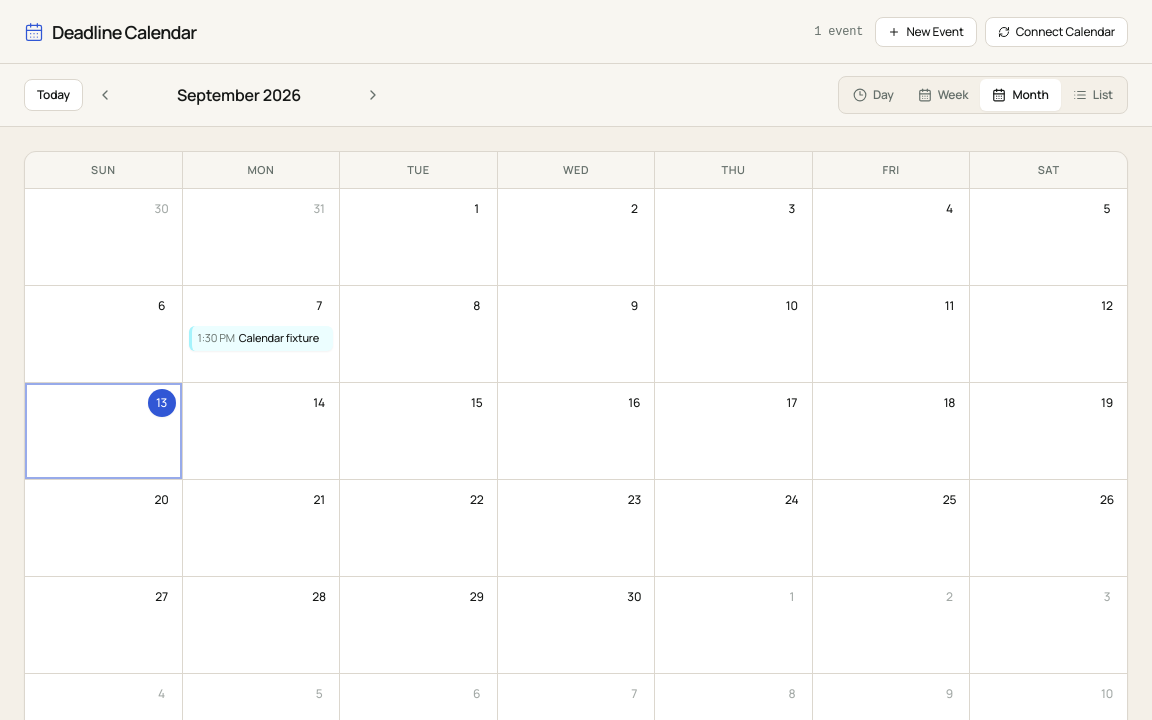
Test case: scheduled calendar event details › keeps the event visible and explains when connected-calendar deletion fails
The width and height of the screenshot is (1152, 720).
Click the button "Calendar fixture" at (261, 338), box [189,326,333,350]
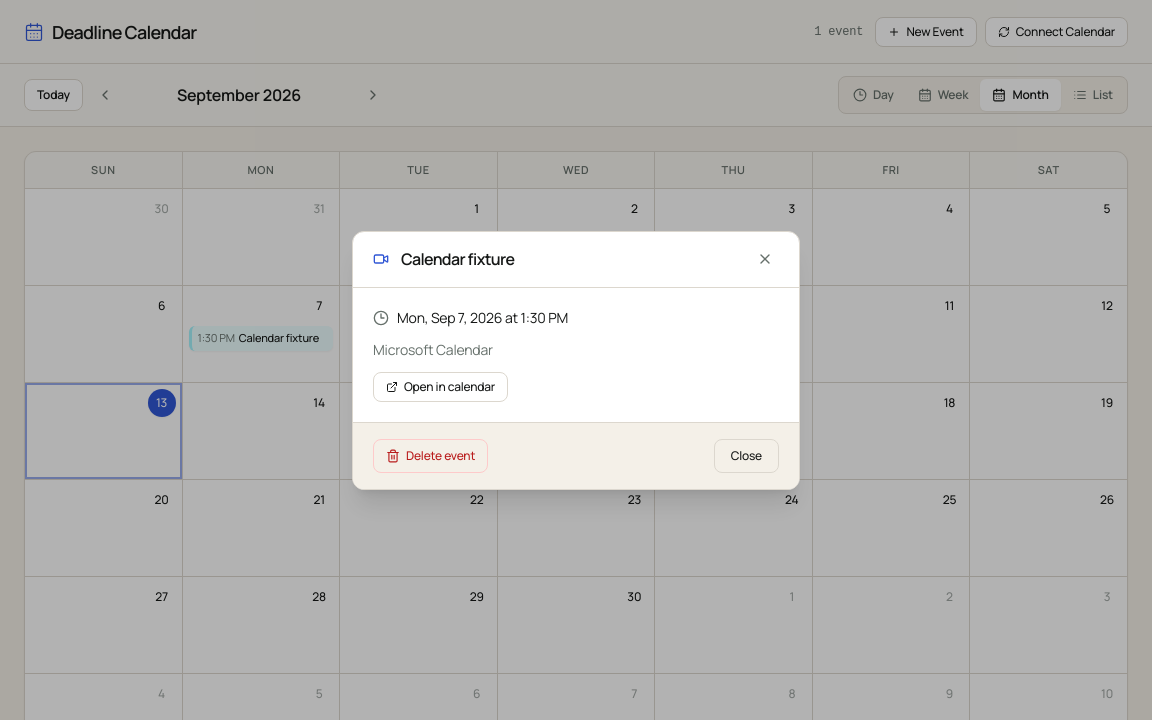
Click the button "Delete event" at (431, 456), box [373,438,488,472]
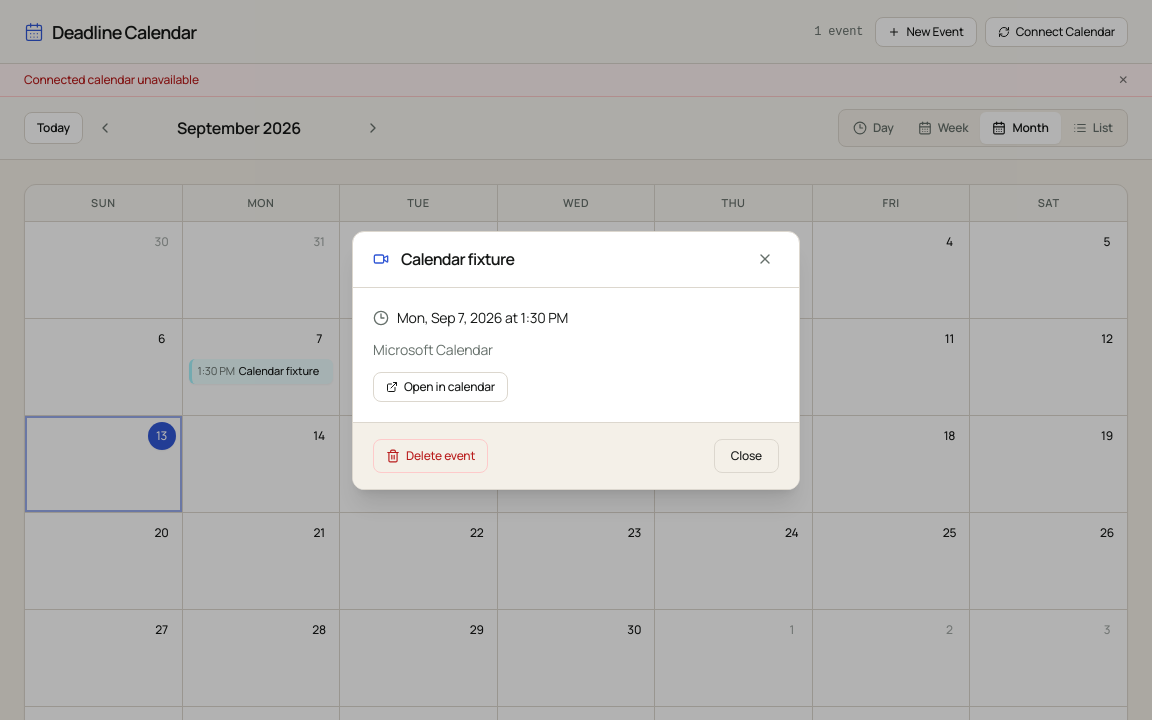
Expected: the dialog is shown, [352,230,800,490]
Expected: the text "Connected calendar unavailable" is shown, [24,72,199,88]
